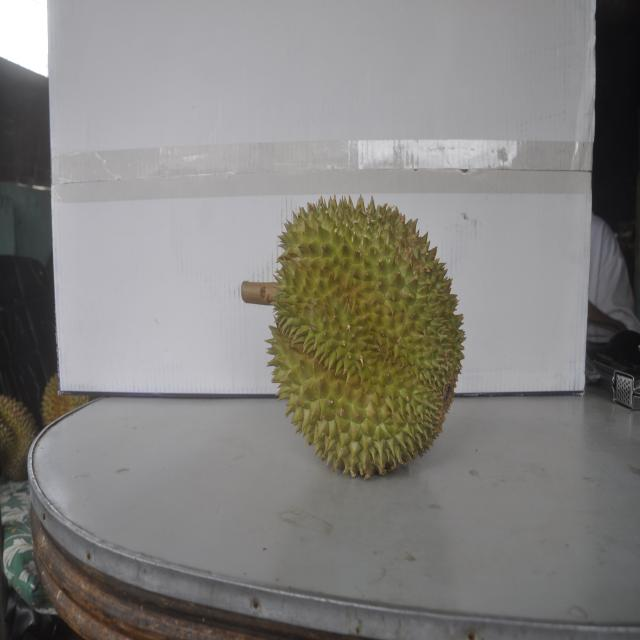mature: (263, 191, 461, 478), (0, 392, 39, 476), (40, 373, 92, 428)
